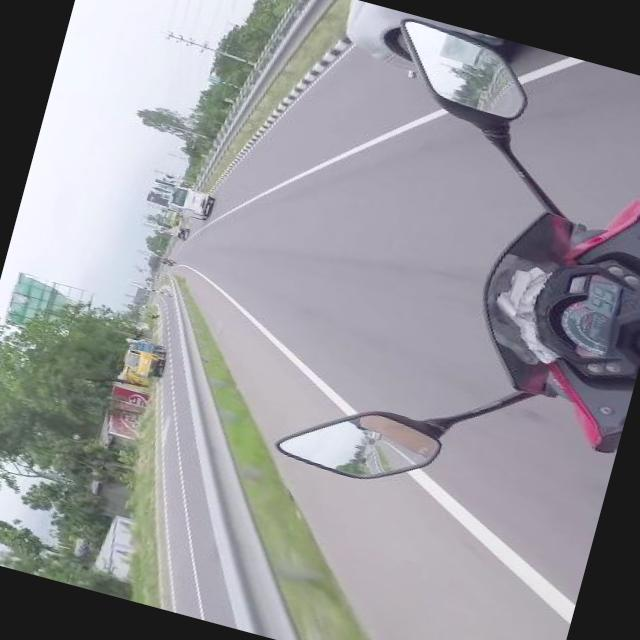car: (333, 0, 521, 96), (167, 224, 188, 241)
motorcycle: (266, 12, 640, 541), (161, 256, 176, 264), (148, 312, 159, 320), (159, 260, 171, 266)
truck: (118, 338, 166, 380), (165, 183, 212, 222), (158, 210, 179, 228)
